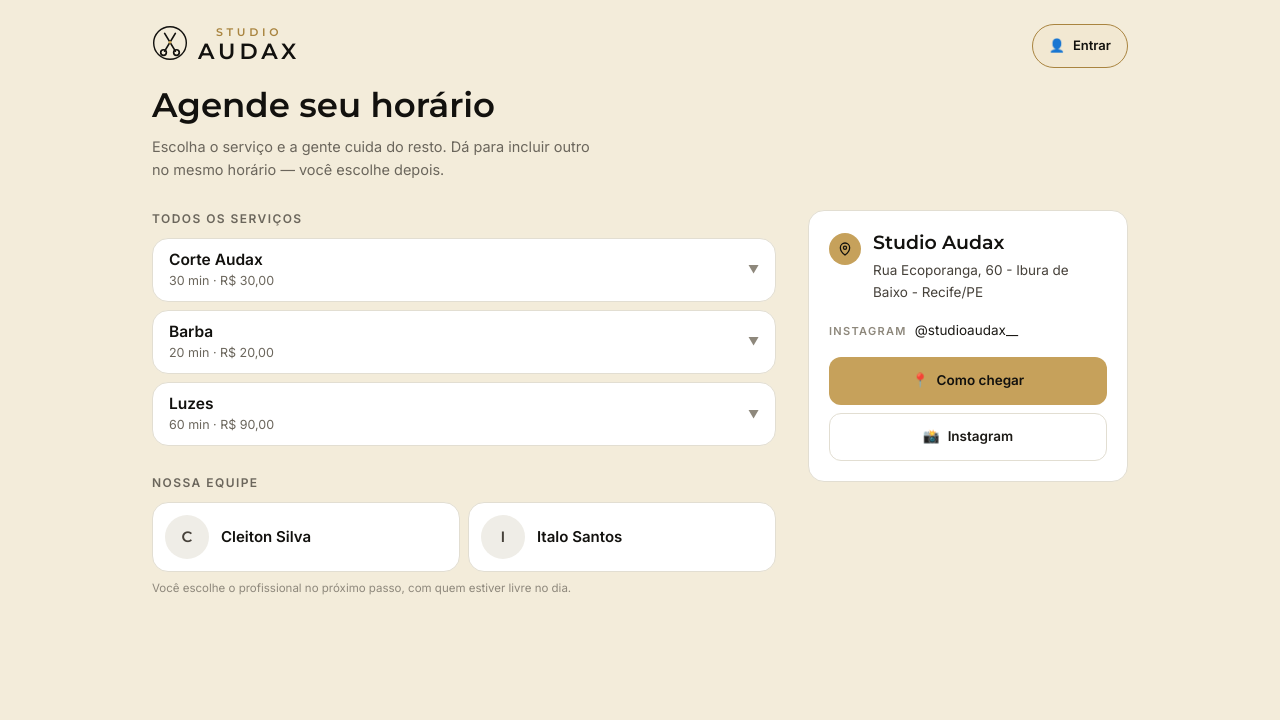
Test: vitrine (primeira tela) › as opções do serviço aparecem ABAIXO da linha, com ESCOLHER
This screenshot has width=1280, height=720.
Expected: the heading "Agende seu horário" is shown, [152,84,495,126]
Step 1. Click the button "Corte Audax 30 min · R$ 30,00 ▼" → click(216, 259), box [153,239,775,301]
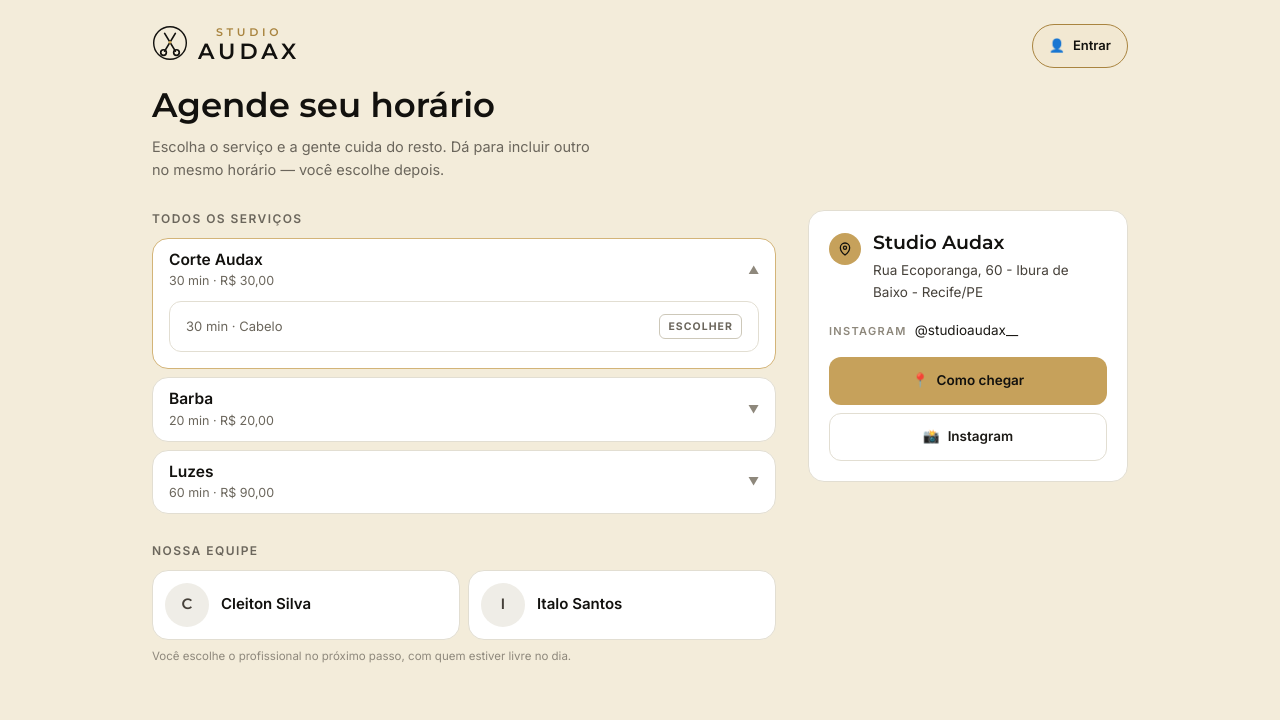
Now the button with aria-label "Agendar Corte Audax" reads "Escolher", box [659,314,742,340]
